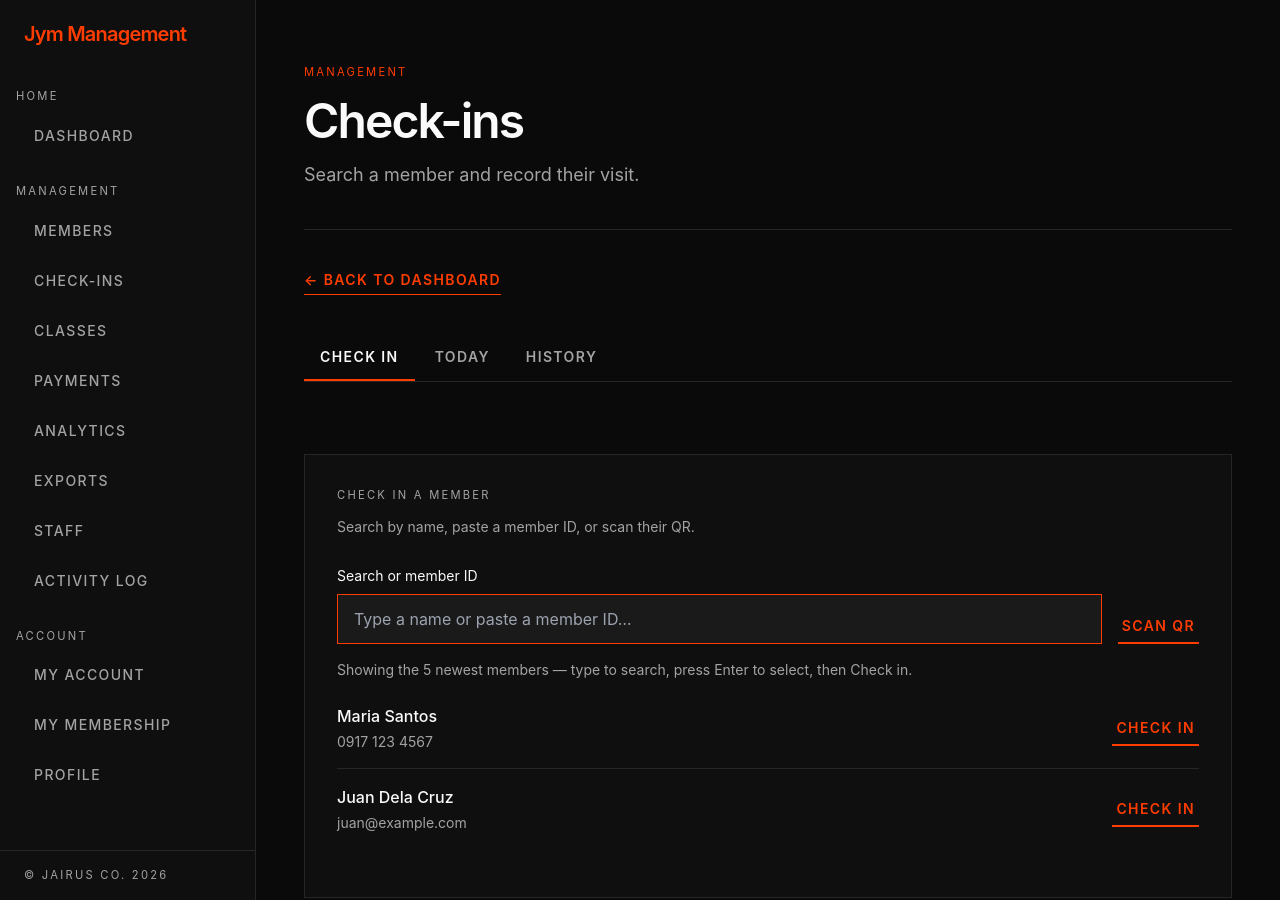
Scenario: CheckInsPage › filters members by search query
Check: the text "Juan Dela Cruz" is shown, box [337,785,467,809]
Check: the text "Maria Santos" is shown, box [337,704,437,728]
Type "maria" into the search field with placeholder "Type a name or paste a member ID…". click: (719, 619)
box: [337,594,1102,644]
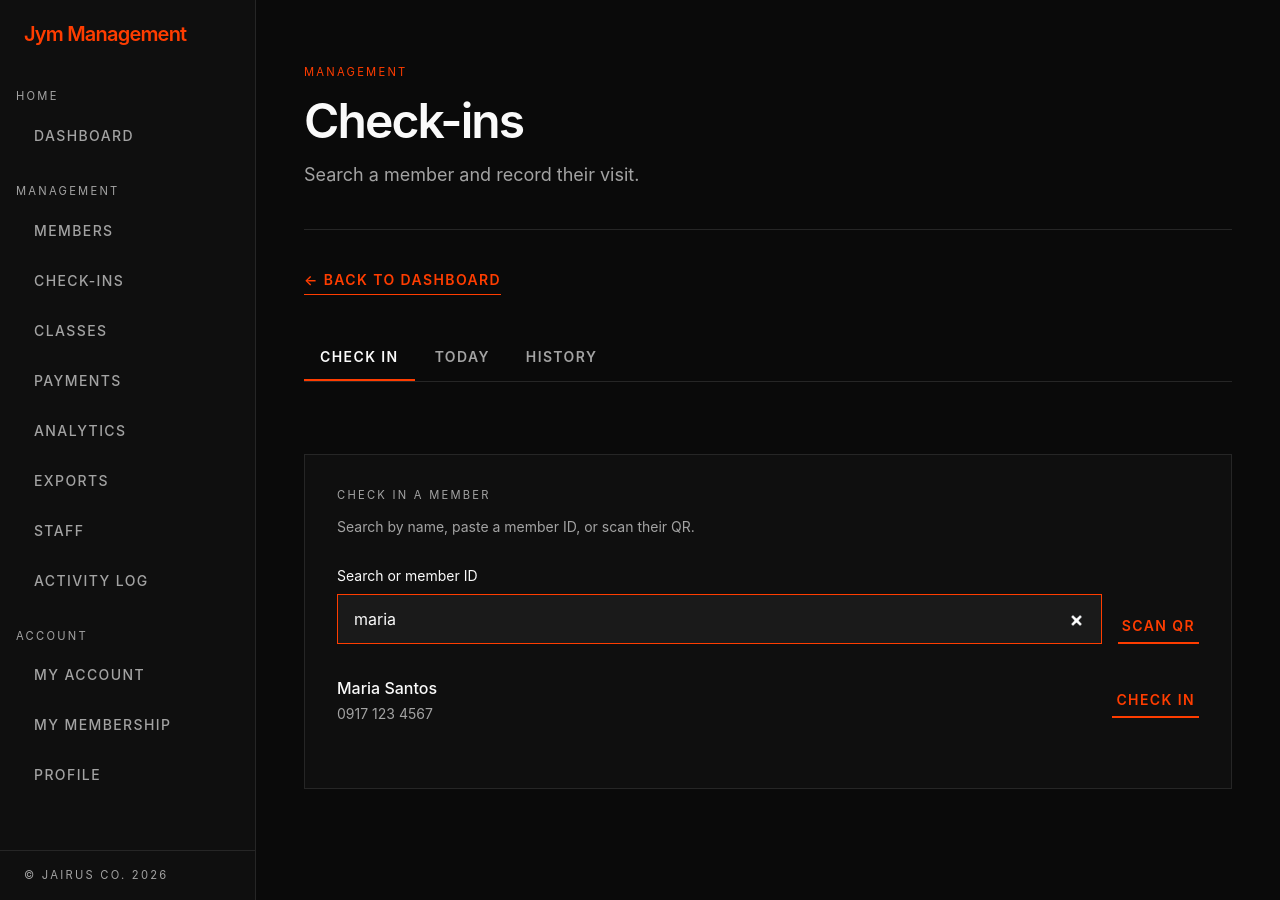
Check: the text "Maria Santos" is shown, box [337,676,437,700]
Check: the text "Juan Dela Cruz" is gone
